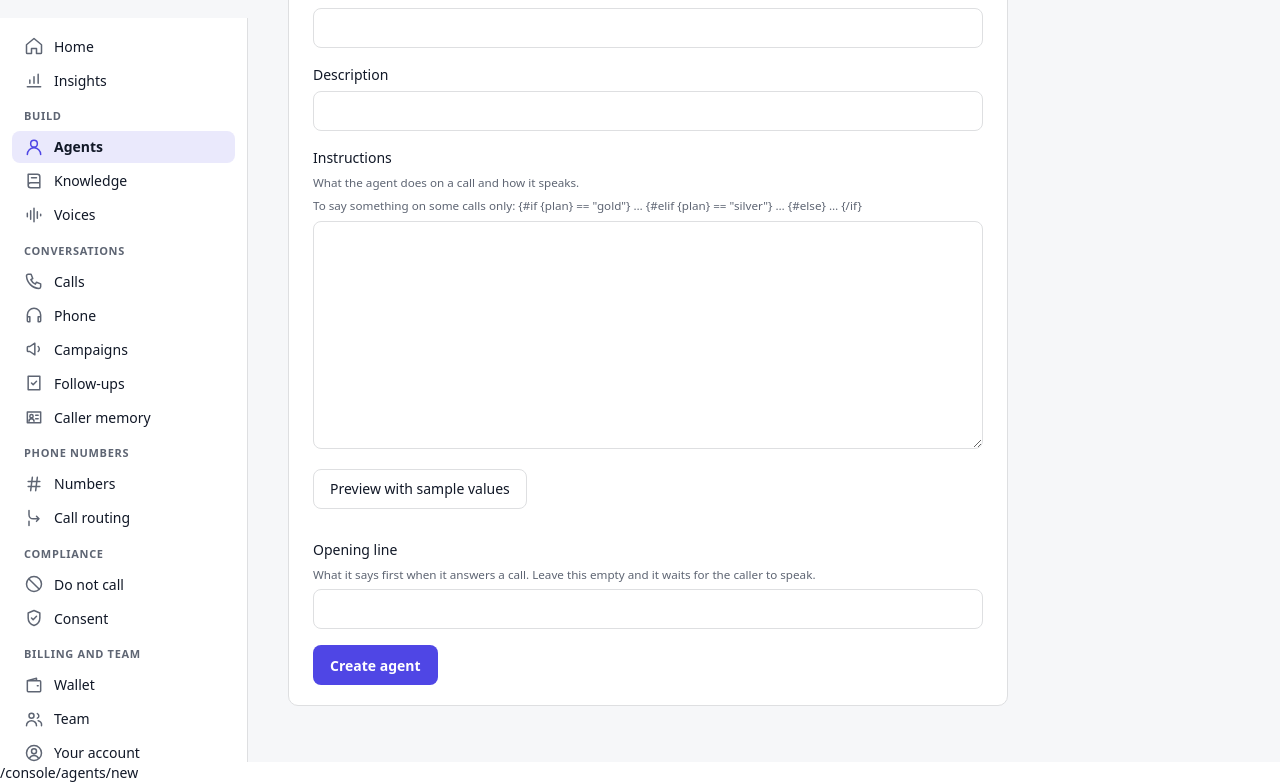
Test: the agents list › shows the fields the backend refused, at their inputs
(page scrolled)
Click the button "Create agent".
click(375, 665)  # box top-left (313, 645), bottom-right (438, 685)
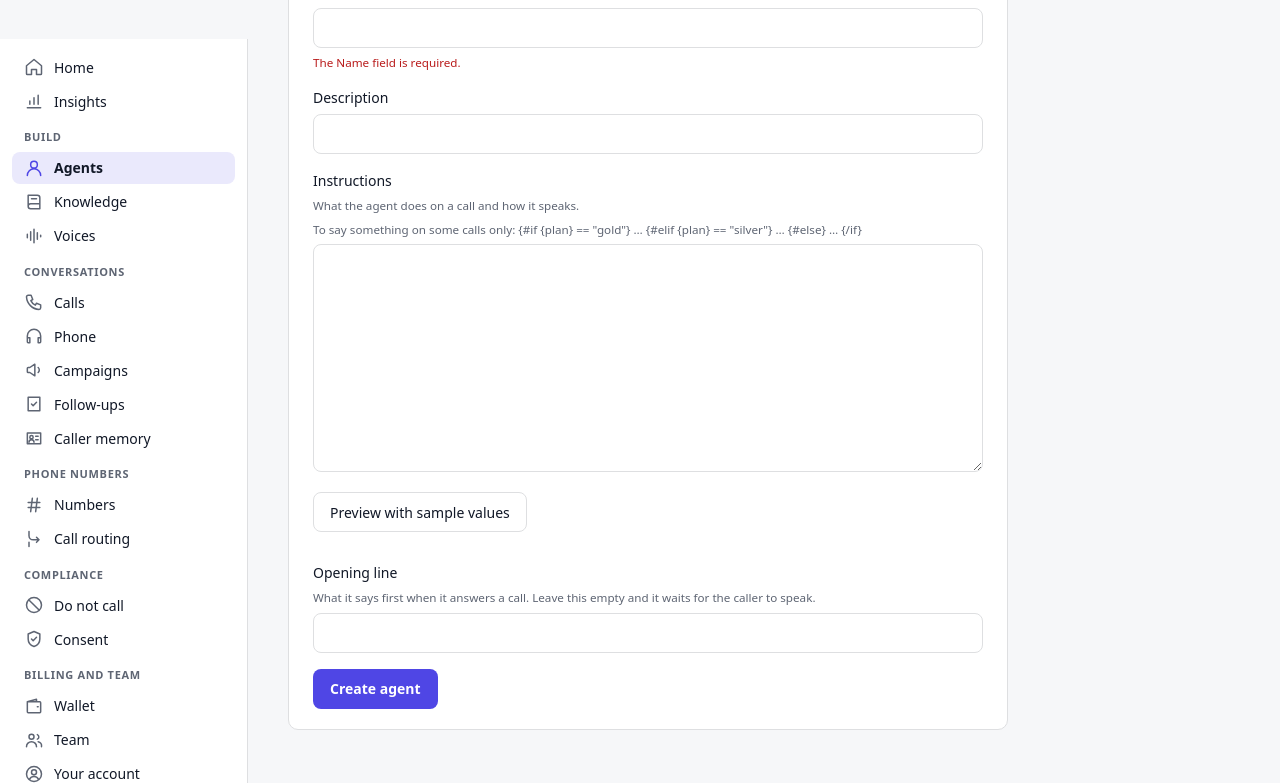
Check: the text "The Name field is required." is shown, box top-left (313, 54), bottom-right (461, 70)
